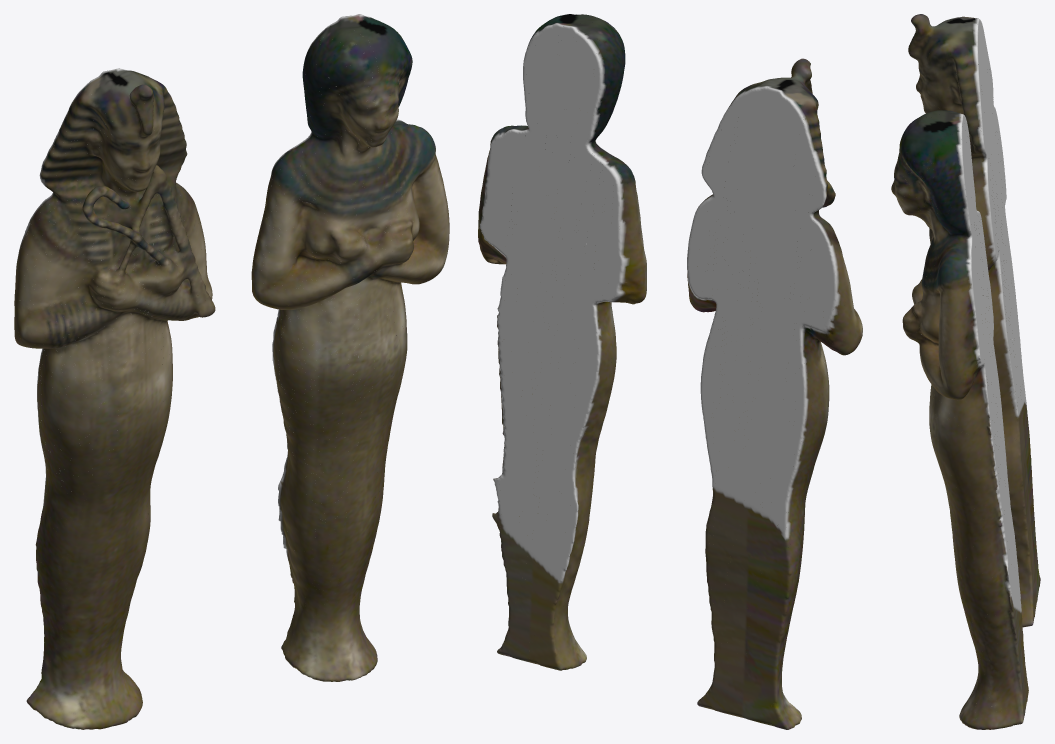
File: tutankhamen_and_ankhesenamun-compressed.glb
The picture shows the model from 3 angles, left to right: view 1: azimuth 30°, elevation 25°; view 2: azimuth 150°, elevation 25°; view 3: azimuth 270°, elevation 25°; orthographic projection. The views are drawn at different scales.
Visible parts, largest first — view 1: lvmnh_tut_and_wifeobjcleanergles; view 2: lvmnh_tut_and_wifeobjcleanergles; view 3: lvmnh_tut_and_wifeobjcleanergles.
Part boxes in pixels (x1=…): lvmnh_tut_and_wifeobjcleanergles: x1=14, y1=14, x2=449, y2=729; lvmnh_tut_and_wifeobjcleanergles: x1=478, y1=14, x2=862, y2=729; lvmnh_tut_and_wifeobjcleanergles: x1=891, y1=14, x2=1040, y2=729.
Bounding box in the file's own units: 1.63 × 2.51 × 0.5638.
